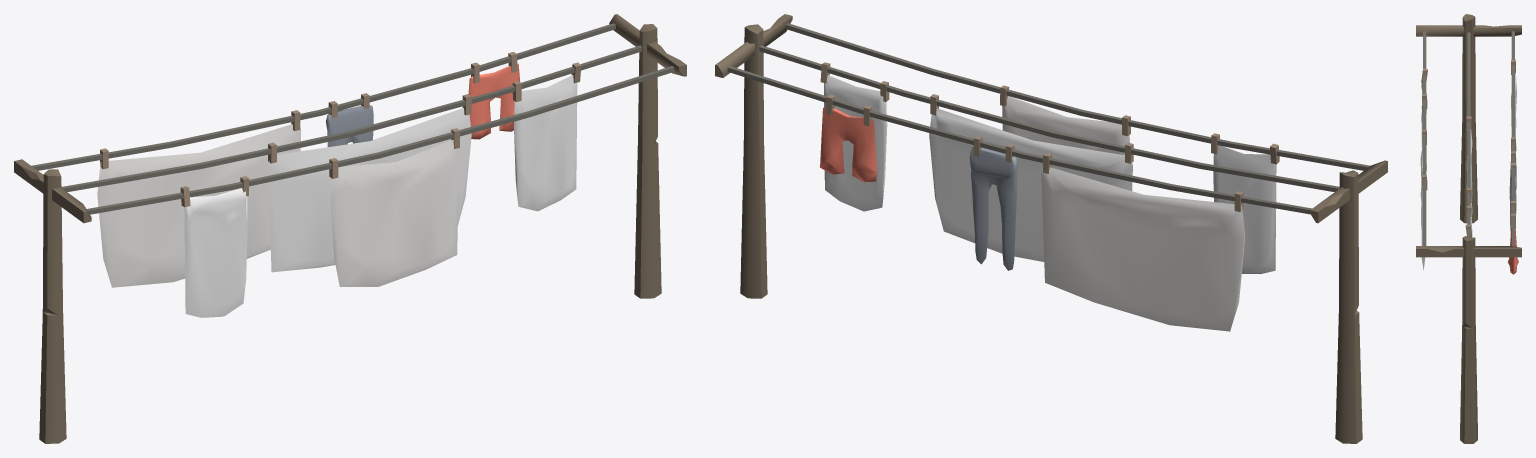
The model's file is SM_Prop_WashingLine_01.obj.
3 views of the same model, side by side, from view 1: azimuth 30°, elevation 25°; view 2: azimuth 150°, elevation 25°; view 3: azimuth 270°, elevation 25° (orthographic). The views are drawn at different scales.
Parts seen in each view (by area): view 1: SM_Prop_WashingLine_01_Mat_SwatchOverlay_PolygonTown_01_Inst; view 2: SM_Prop_WashingLine_01_Mat_SwatchOverlay_PolygonTown_01_Inst; view 3: SM_Prop_WashingLine_01_Mat_SwatchOverlay_PolygonTown_01_Inst.
Boxes of the visible parts, x1,y1,x2,y2 form: SM_Prop_WashingLine_01_Mat_SwatchOverlay_PolygonTown_01_Inst: (14, 14, 686, 443); SM_Prop_WashingLine_01_Mat_SwatchOverlay_PolygonTown_01_Inst: (715, 14, 1387, 443); SM_Prop_WashingLine_01_Mat_SwatchOverlay_PolygonTown_01_Inst: (1416, 14, 1521, 443).
Size of the model in its own units: 5.49 by 2.27 by 1.07.
Materials: 1 (1 with a texture image).
